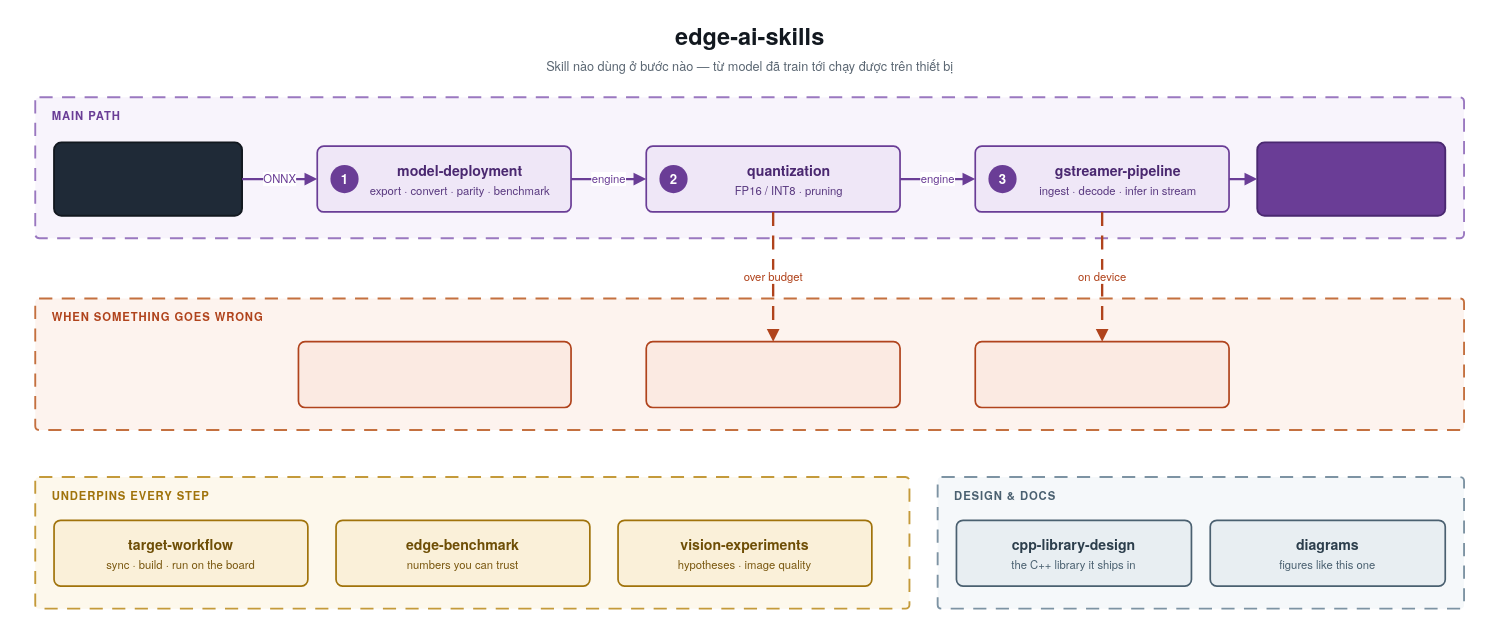
This 1498x625 diagram has some shape labels left out. The shapes that lost their labels are listed below. From the top down, each one's centre as x and y in pixels, then its label:
At [148,178]: "Trained model PyTorch / TensorFlow".
At [1351,178]: "Running on device within budget".
At [434,374]: "reverse-engineer-closed-source must match a vendor black box".
At [772,374]: "gpu-kernel-engineering a stage is too slow".
At [1101,374]: "embedded-debugging leaks · races · latency spikes".
